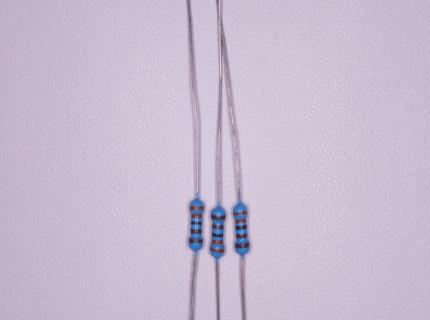Black band: (235, 224, 247, 230), (212, 233, 223, 237), (191, 222, 201, 225)
Brown band: (235, 243, 249, 248), (211, 214, 225, 219), (189, 239, 203, 243), (236, 233, 247, 238), (212, 224, 223, 229), (191, 229, 202, 234)
Orange band: (210, 247, 224, 253), (189, 206, 203, 210), (233, 211, 247, 215), (212, 239, 223, 244), (191, 214, 202, 218), (235, 219, 246, 223)
